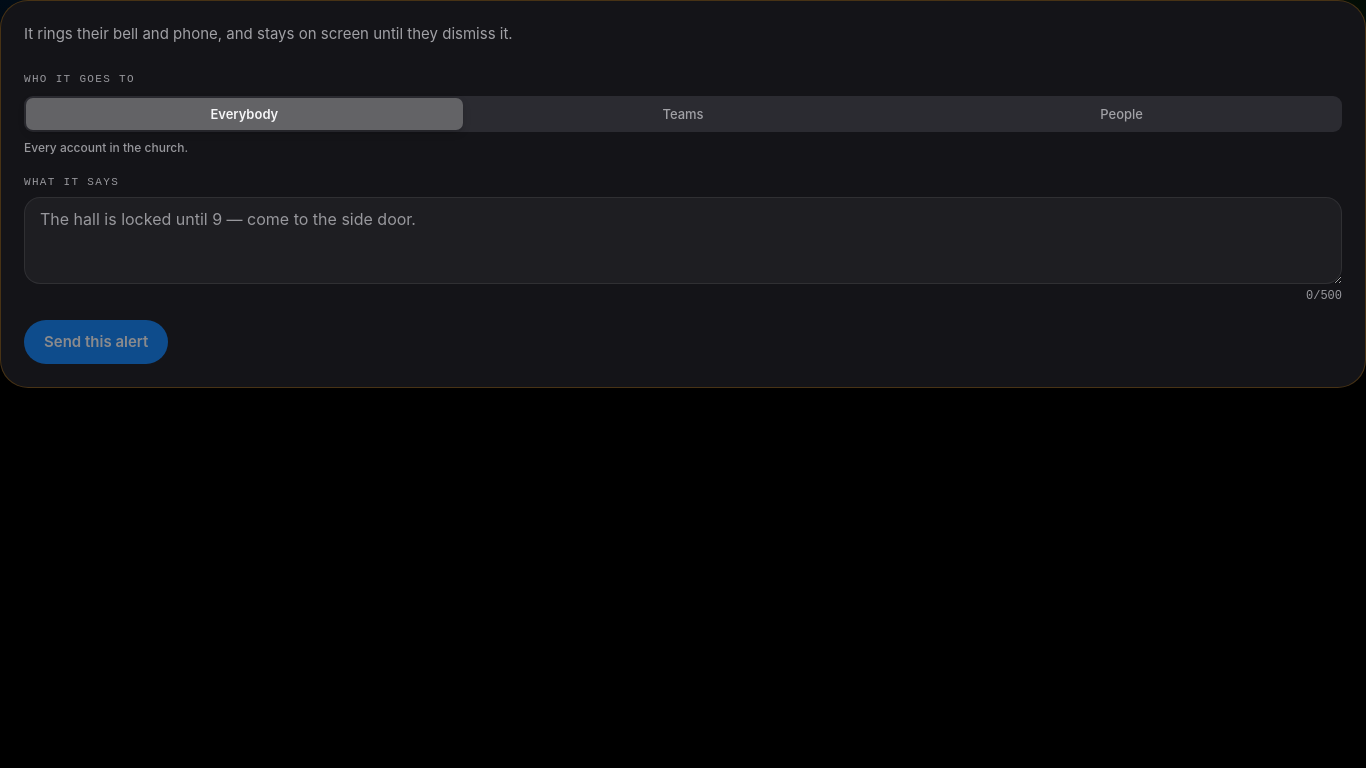
Test: the recently sent list › shows what has already gone out
In the text box labelled "What it says": (683, 240) [24, 197, 1342, 284], type "Sunday is cancelled"
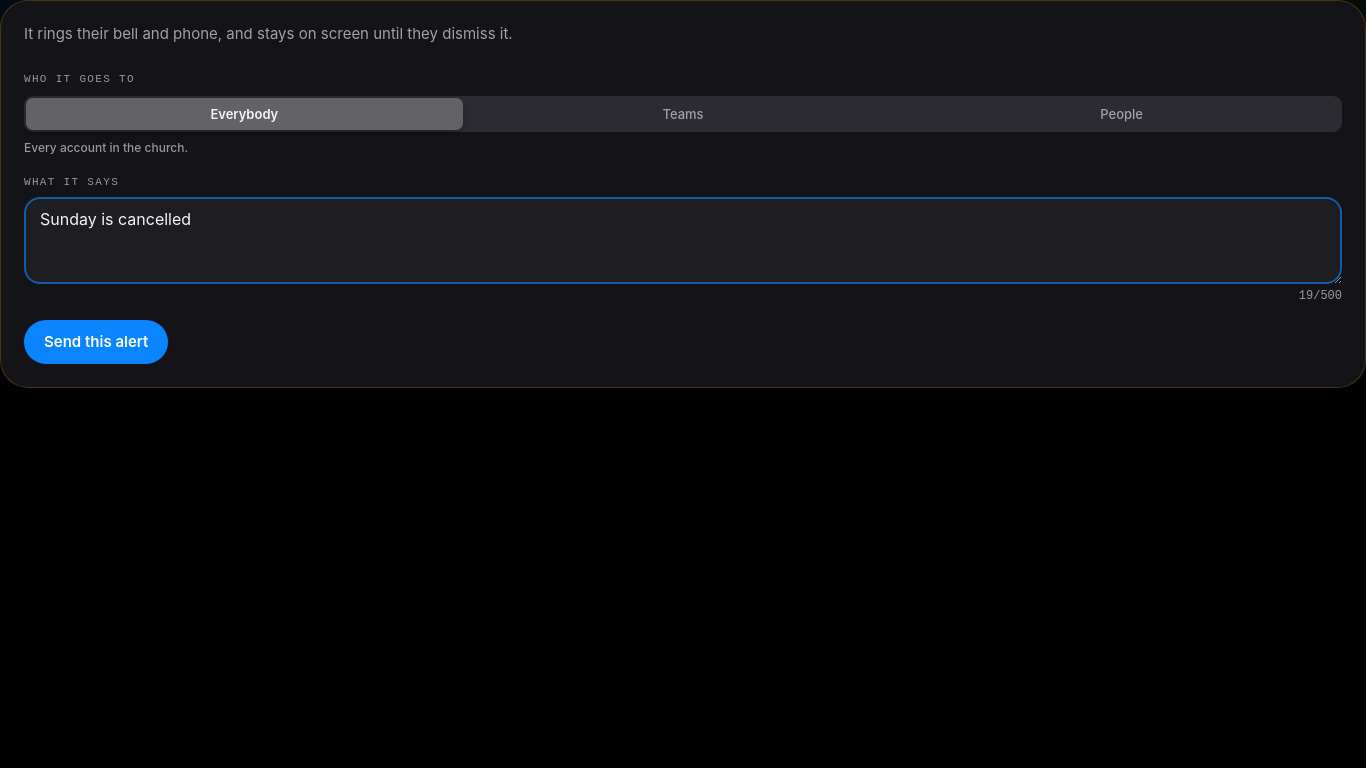
Click the button "Send this alert": (96, 342) [24, 320, 168, 364]
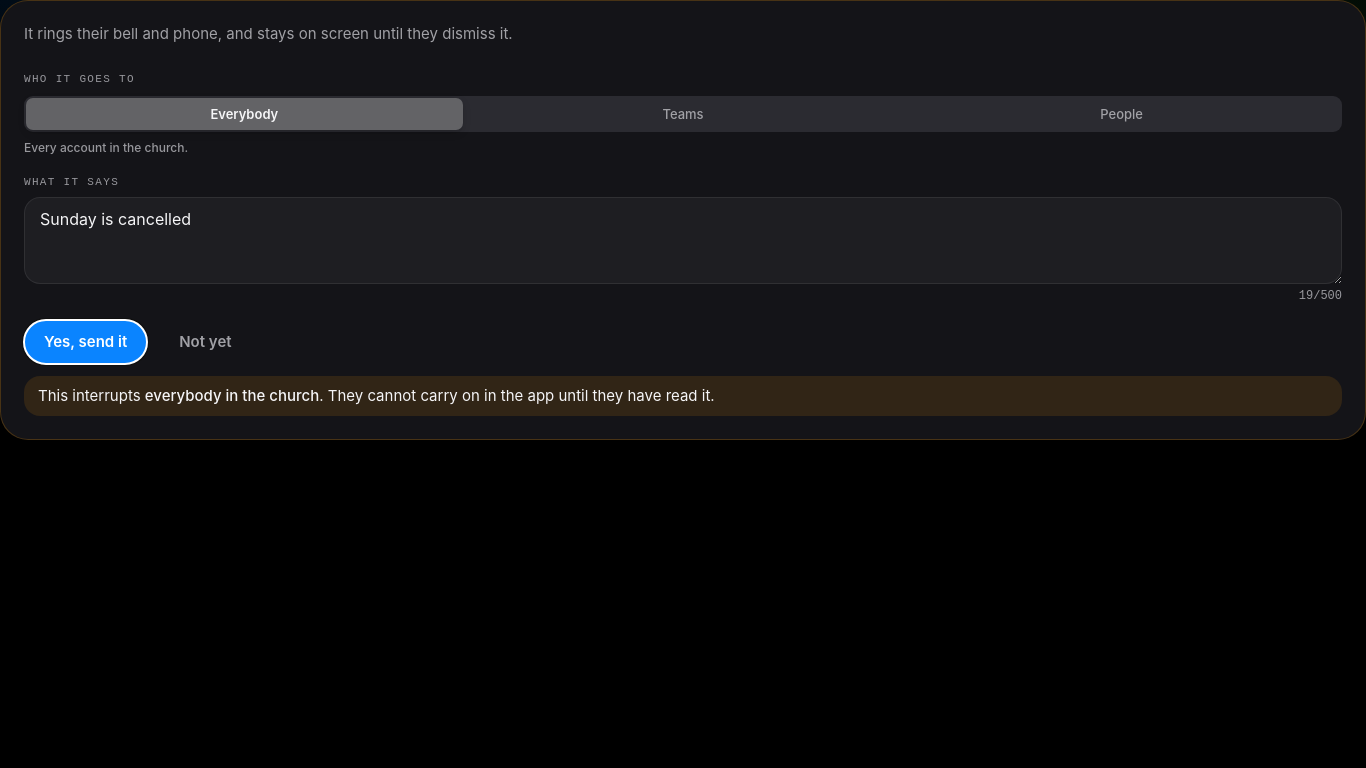
Click the button "Yes, send it": (86, 342) [24, 320, 147, 364]
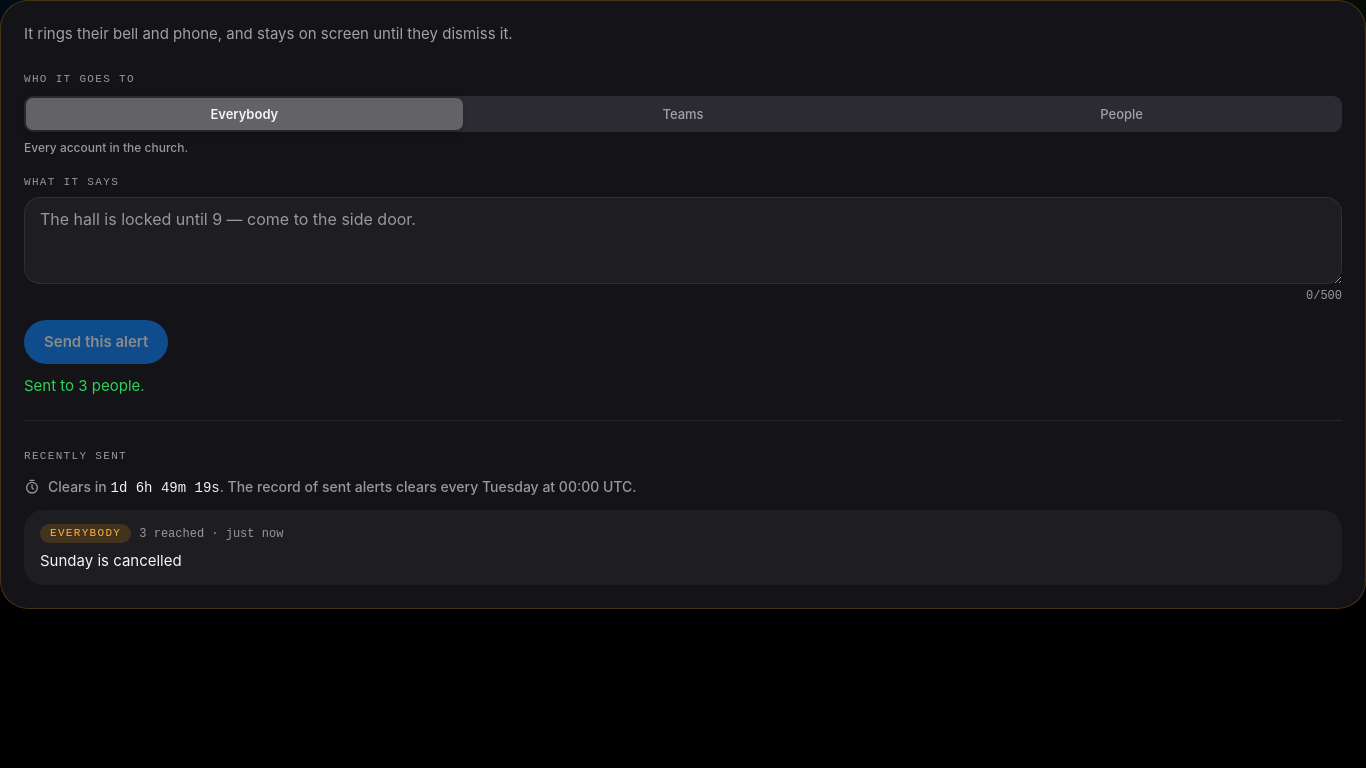
Check: the list item shows "Sunday is cancelled", box [40, 551, 182, 570]
